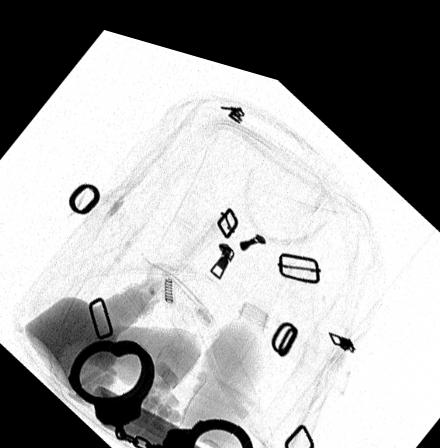HandCuffs: (67, 331, 255, 448)
